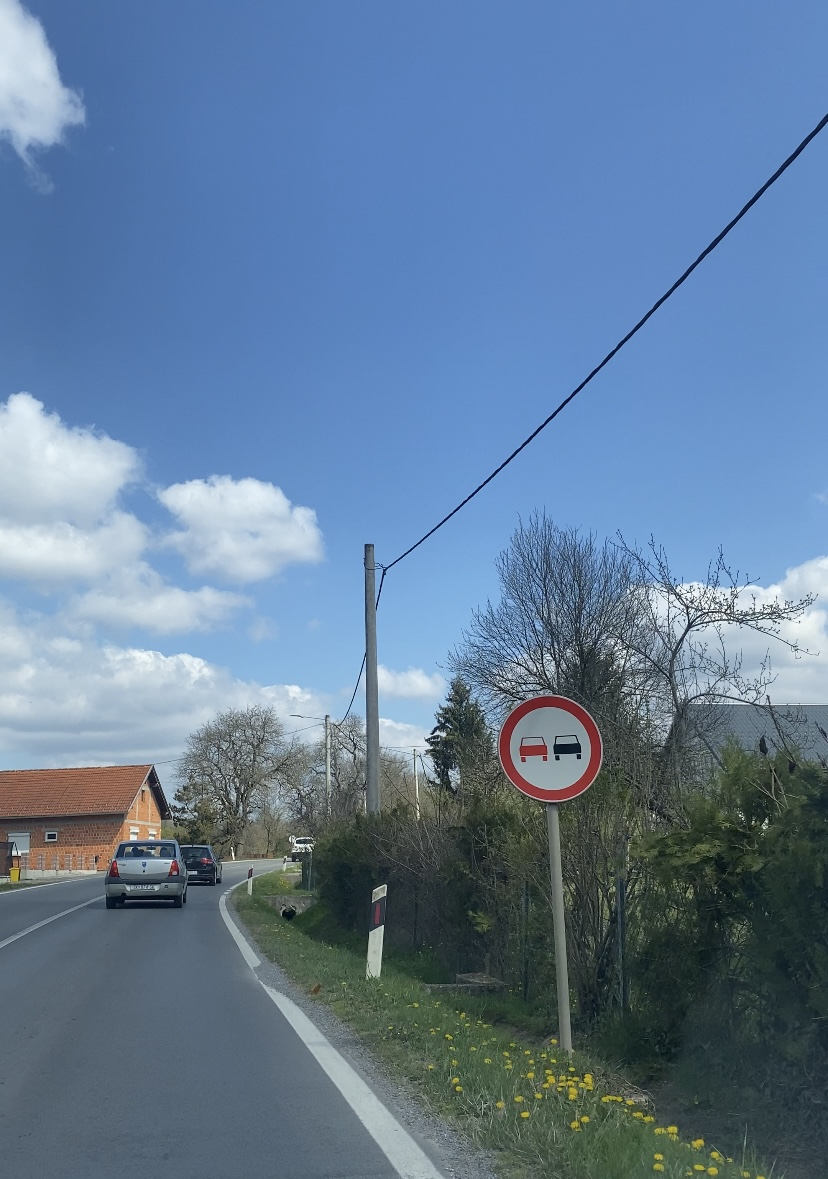Zabrana pretjecanja: (498, 695, 604, 803)
